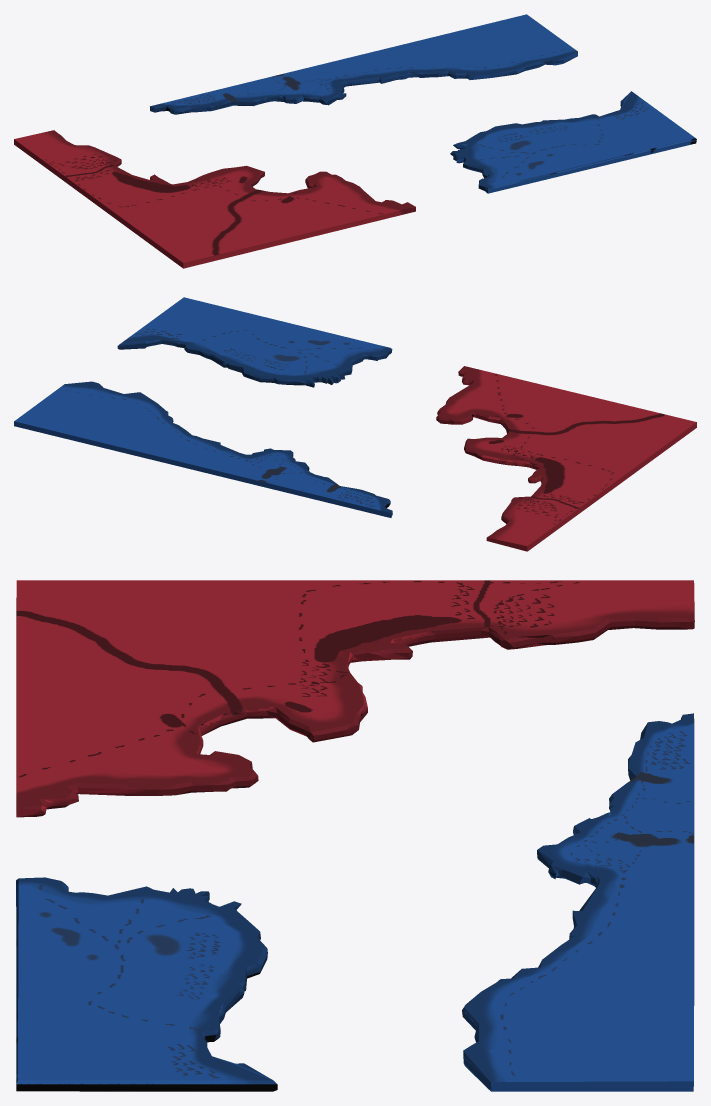
The model's file is map_scaled.fbx.
The picture shows the model from 3 angles, top to bottom: view 1: azimuth 30°, elevation 25°; view 2: azimuth 150°, elevation 25°; view 3: azimuth 270°, elevation 25°; orthographic projection. The views are drawn at different scales.
Visible parts, largest first — view 1: Plane; view 2: Plane; view 3: Plane.
Part boxes in pixels (x1=…): Plane: x1=14, y1=14, x2=696, y2=268; Plane: x1=14, y1=297, x2=696, y2=551; Plane: x1=16, y1=580, x2=694, y2=1091.
Bounding box in the file's own units: 1708 × 30.39 × 977.
